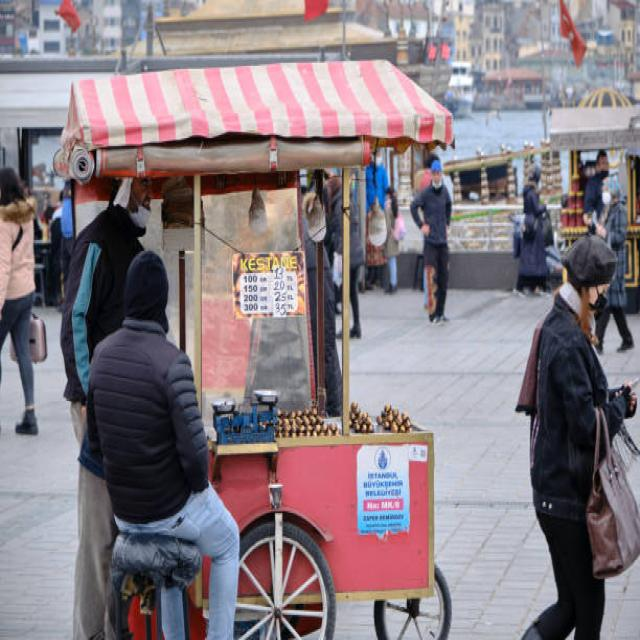Emperan: (49, 54, 478, 640)
